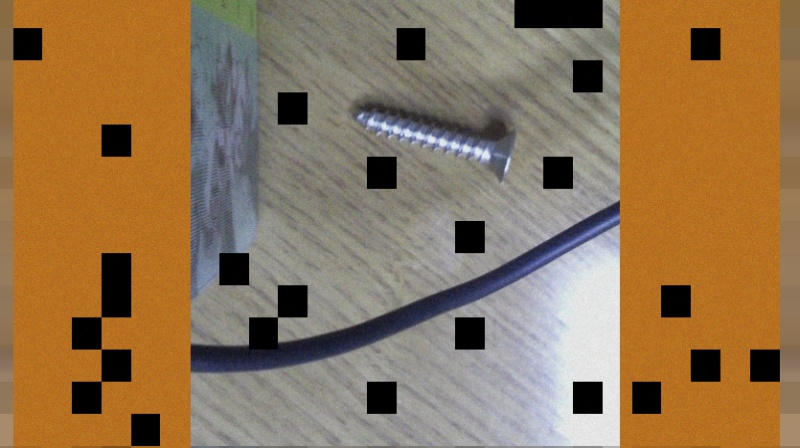S001: (350, 98, 520, 185)
